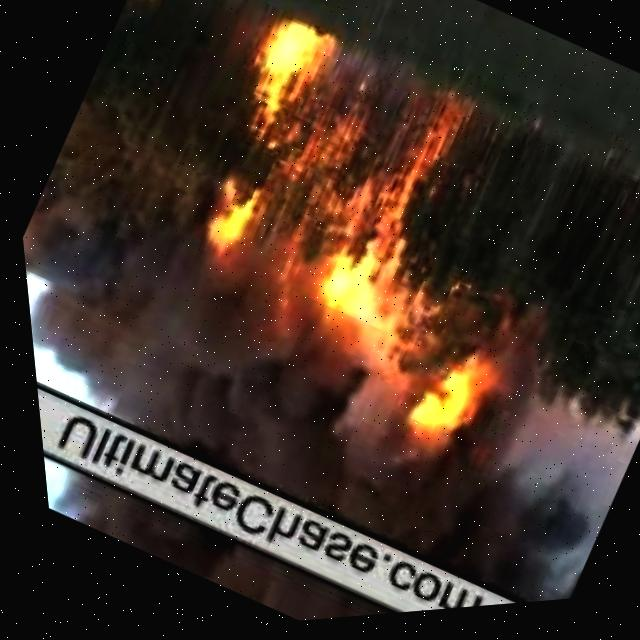Fire: (144, 10, 477, 349), (340, 300, 538, 539), (124, 0, 180, 21)
